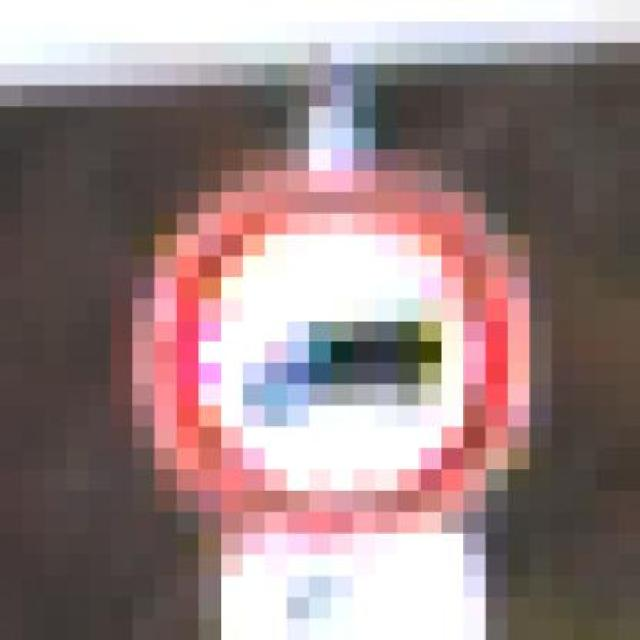Truck traffic is prohibited: (88, 149, 574, 534)
